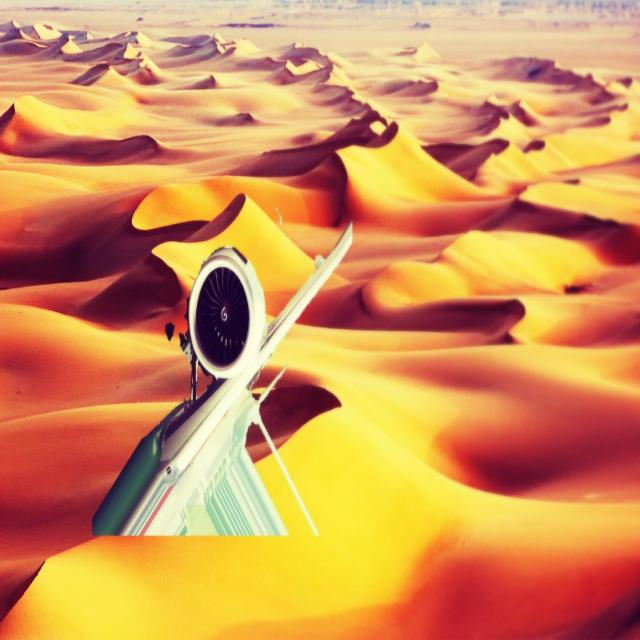airplane: (90, 219, 354, 541)
